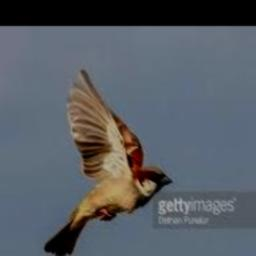Sparrow: (43, 69, 172, 256)
